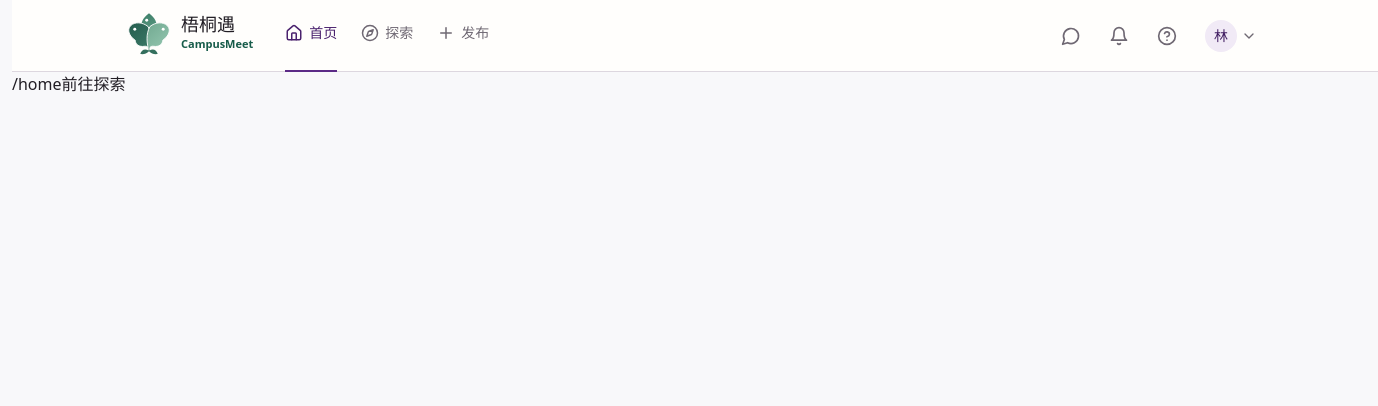
responsive application navigation › opens the complete menu and uses matched profile destinations
Step 1. Click the button named "打开个人菜单" → click(1231, 36), box [1199,14,1263,58]
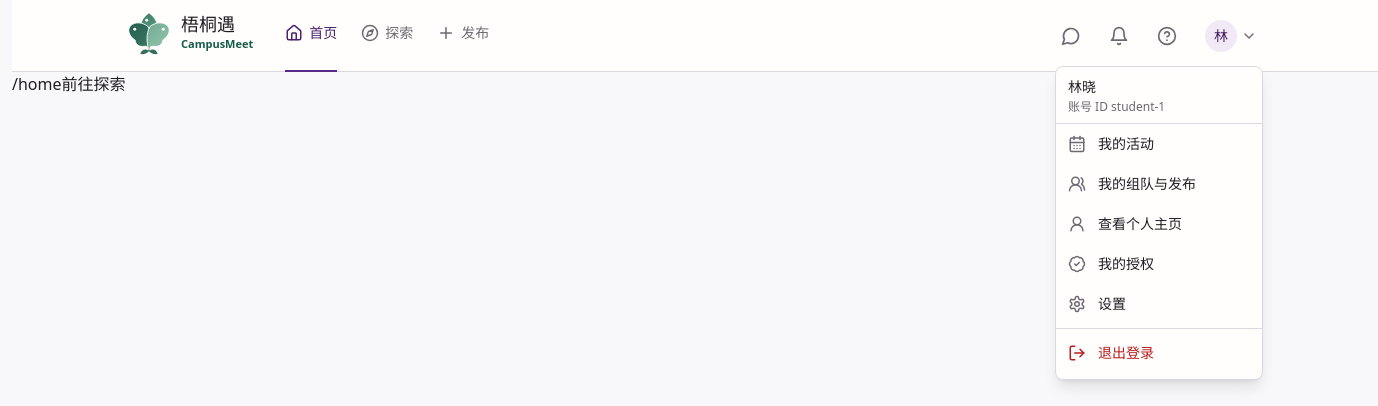
Result: the menu items read "我的活动", "我的组队与发布", "查看个人主页", "我的授权", "设置", "退出登录", in this order at [1068,134,1154,153]; [1068,174,1196,193]; [1068,214,1182,233]; [1068,254,1154,273]; [1068,294,1126,313]; [1056,333,1262,373]
